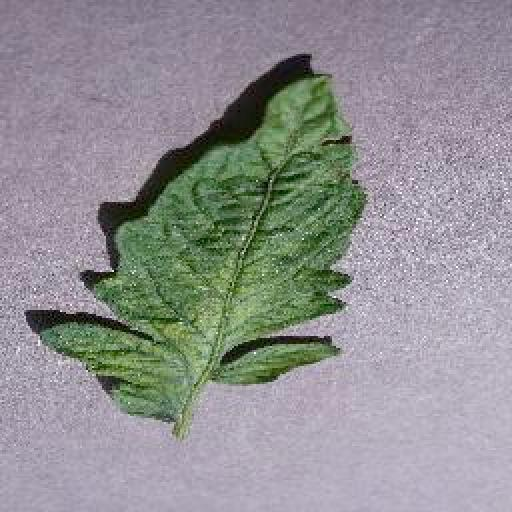disease_tomato: (33, 74, 367, 422)
